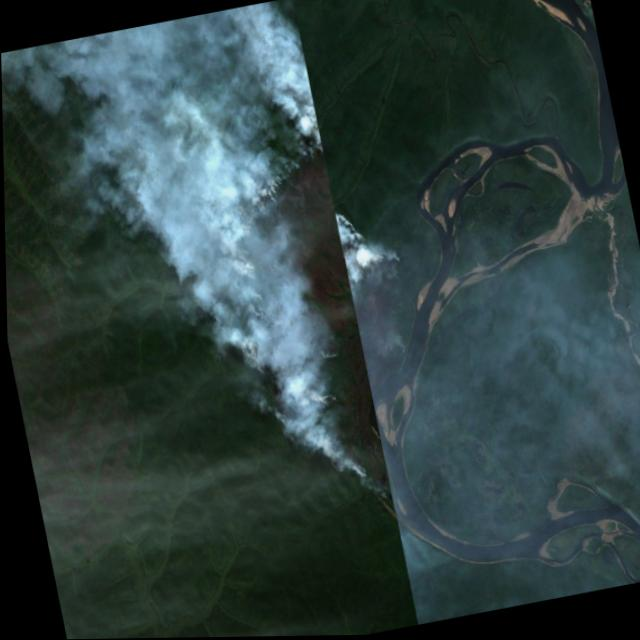fire: (210, 136, 415, 500)
